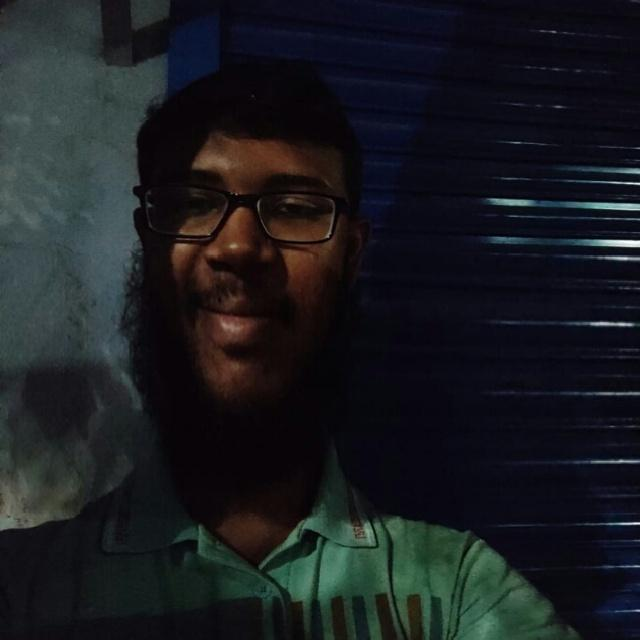Happy: (52, 89, 454, 448)
